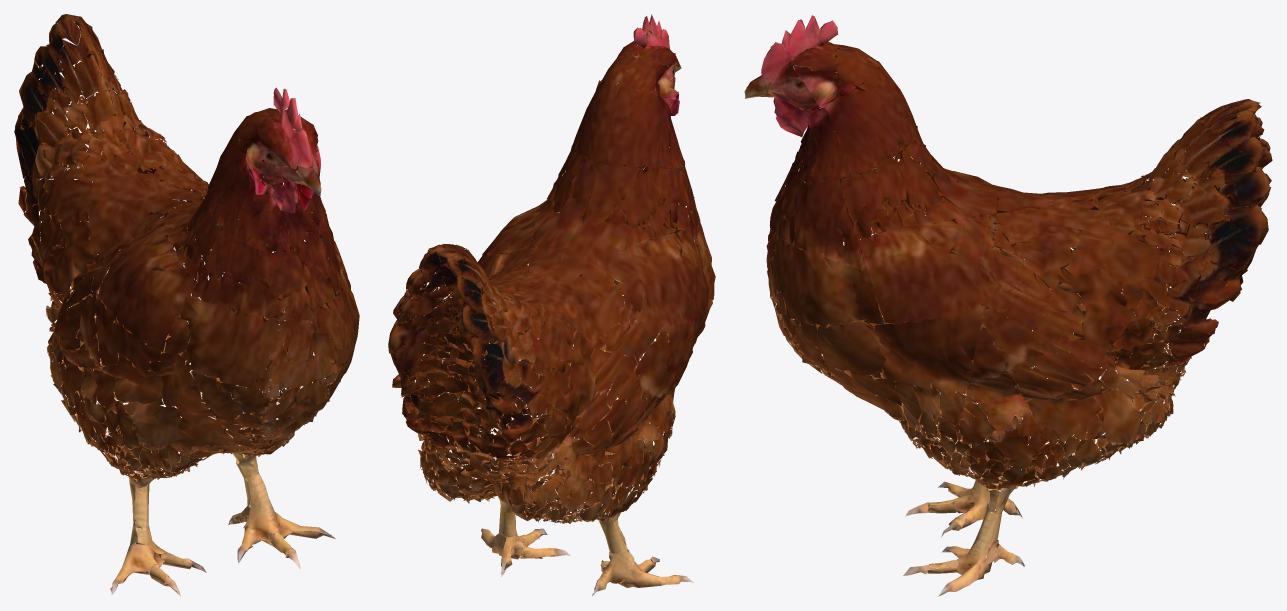
The model's file is chicken_73_eoja.glb.
3 renders of one model, left to right at view 1: azimuth 30°, elevation 25°; view 2: azimuth 150°, elevation 25°; view 3: azimuth 270°, elevation 25°, orthographic. The views are drawn at different scales.
Visible parts, largest first — view 1: chicken; view 2: chicken; view 3: chicken.
Part boxes in pixels (box(x1,y1,x2,y2)): chicken: box(14, 14, 359, 596); chicken: box(388, 14, 715, 595); chicken: box(744, 15, 1272, 596).
Size of the model in its own units: 0.201 by 0.4495 by 0.4044.
1 material, 1 textured.
